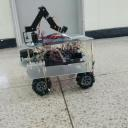cart: (19, 33, 96, 96)
